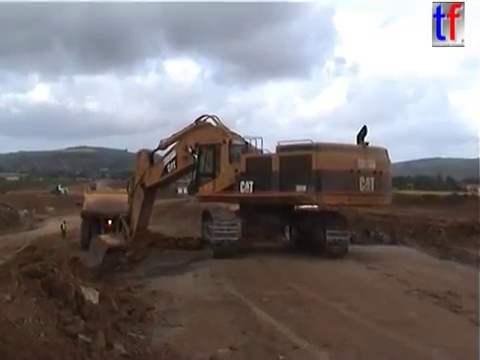excavator: (84, 111, 395, 271)
truck: (75, 183, 144, 252), (185, 178, 206, 197), (49, 184, 71, 197)
worker: (58, 219, 69, 241)
